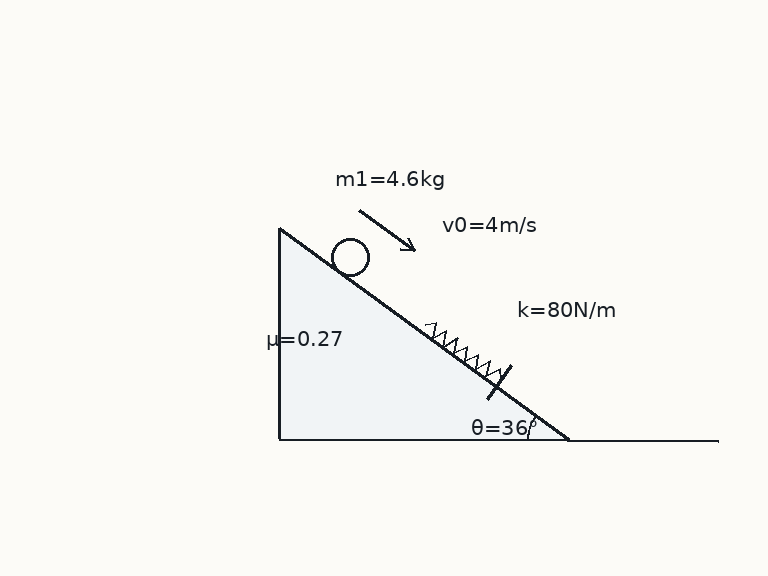ball: (329, 236, 371, 278)
ramp: (277, 227, 570, 441)
spring: (424, 321, 503, 381)
